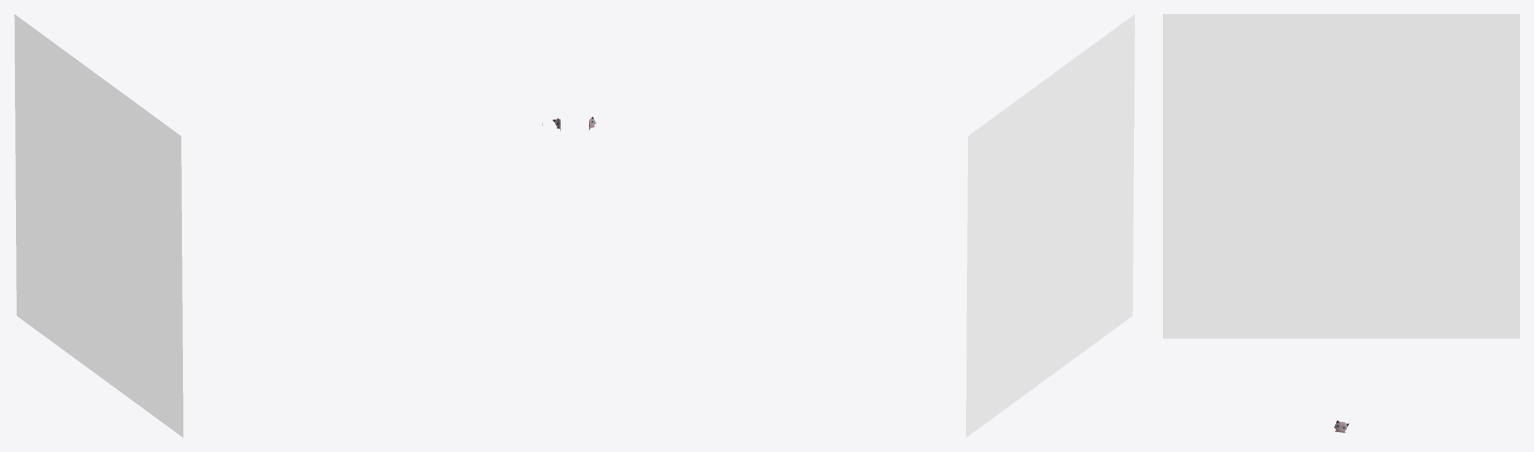
Rendered from pump_bottle_experiment_with_label_placement.glb.
3 views of the same model, side by side, from view 1: azimuth 30°, elevation 25°; view 2: azimuth 150°, elevation 25°; view 3: azimuth 270°, elevation 25° (orthographic). The views are drawn at different scales.
Parts seen in each view (by area): view 1: image_plane_world; view 2: image_plane_world; view 3: image_plane_world.
Part boxes in pixels (left/top/right/bottom): image_plane_world: left=14, top=14, right=183, bottom=437; image_plane_world: left=966, top=14, right=1134, bottom=437; image_plane_world: left=1163, top=14, right=1519, bottom=338.
Size of the model in its own units: 0.998 by 0.625 by 0.625.
2 materials, 2 textured.
